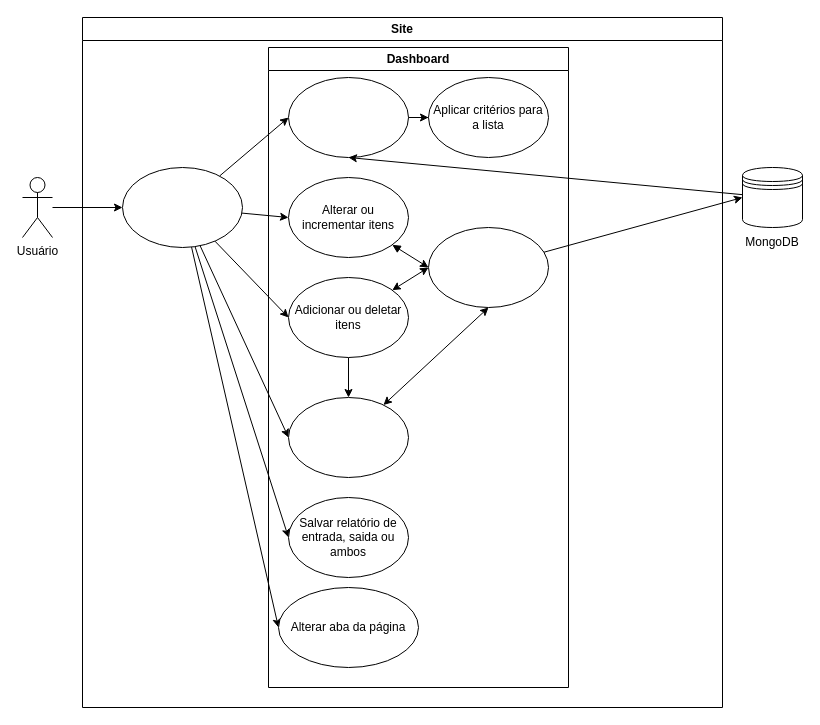
This 820x725 diagram has some shape labels left out. The shapes that lost their labels are listed below. From the top down, each one's centre as x and y in pixels, then its label:
At (x=348, y=117): "Listar itens".
At (x=182, y=207): "Log-in".
At (x=488, y=267): "Confirmar através de pop-up".
At (x=348, y=437): "Adicionar, deletar ou editar clientes".
